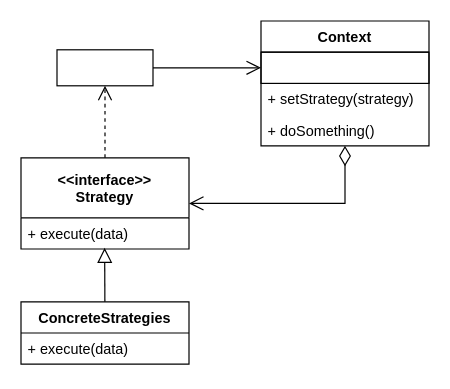
This 450x389 diagram has some shape labels left out. Each missing label, with the centre of its shape:
- strategy: (x=344, y=67)
Client: (x=104, y=67)
